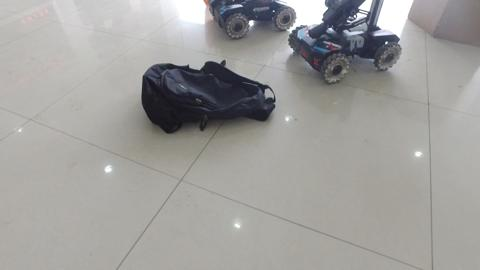bag: (144, 62, 278, 133)
chariot: (292, 1, 401, 82), (204, 1, 295, 34)
